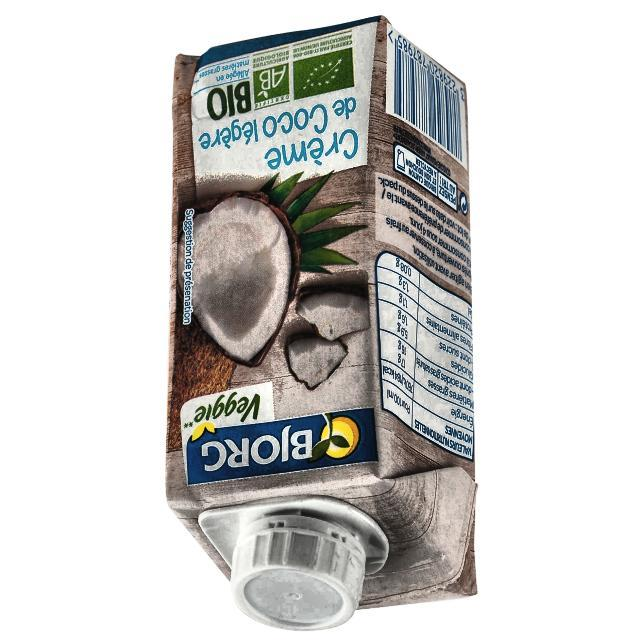cardboard: (165, 16, 478, 616)
